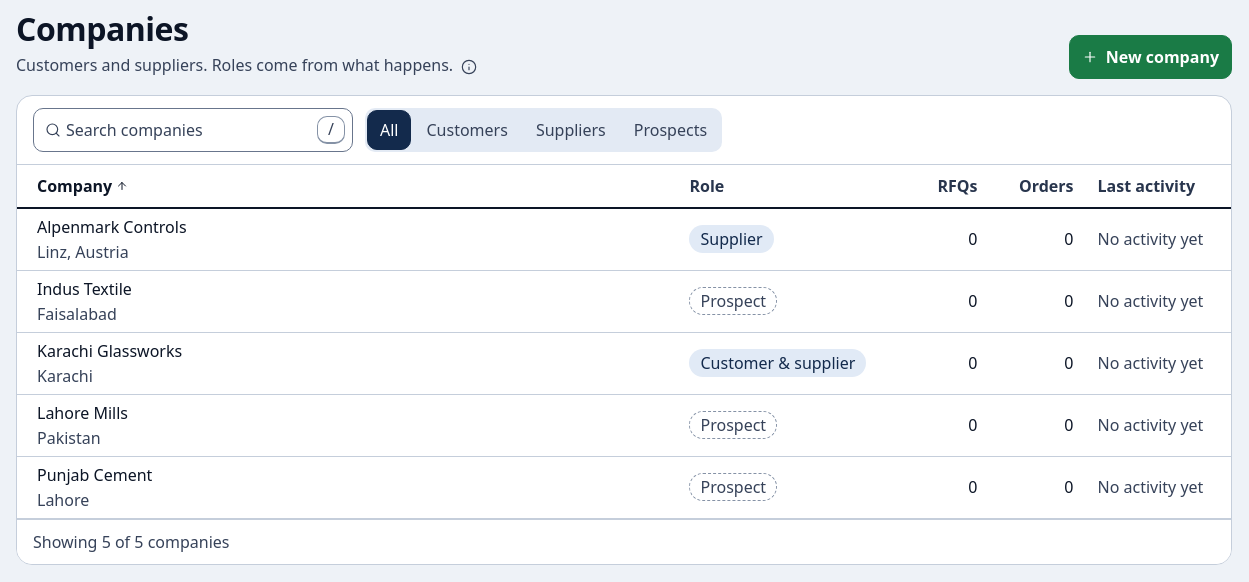
Test: companies list › an Urdu-script name that matches nothing is offered as a new company (review 2026-10-20)
Expected: the link "Karachi Glassworks" is shown, [37,340,182,362]
In the field named "Search companies or contacts": (193, 130) [33,108,353,152], type "کراچی سیمنٹ"
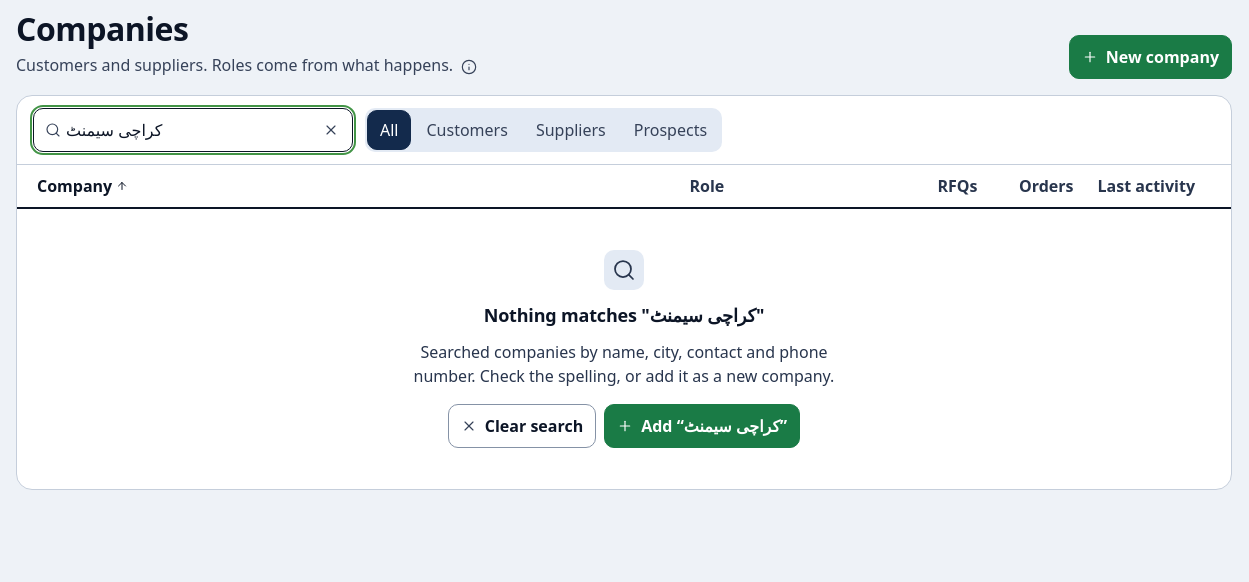
Result: the text "Nothing matches \"کراچی سیمنٹ\"" is shown at [484,302,764,328]
Result: the button "Add “کراچی سیمنٹ”" is shown at [604,404,800,448]
